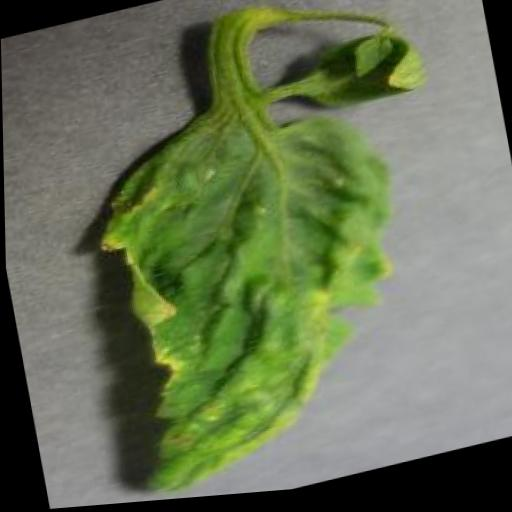Yellow Leaf Curl Virus: (78, 85, 441, 507)
